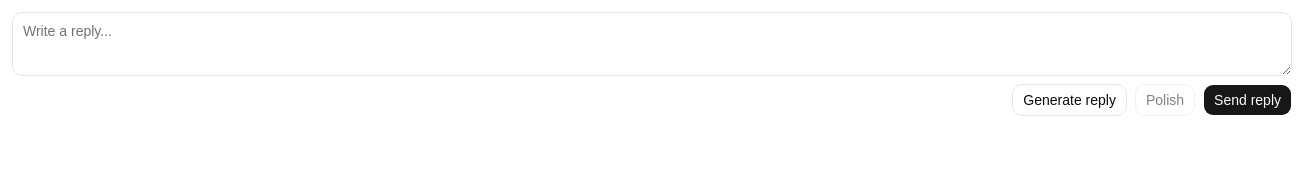
Test: ReplyForm › shows an error message when generating fails
Click the button "Generate reply": click(1070, 100) [1012,84,1127,116]
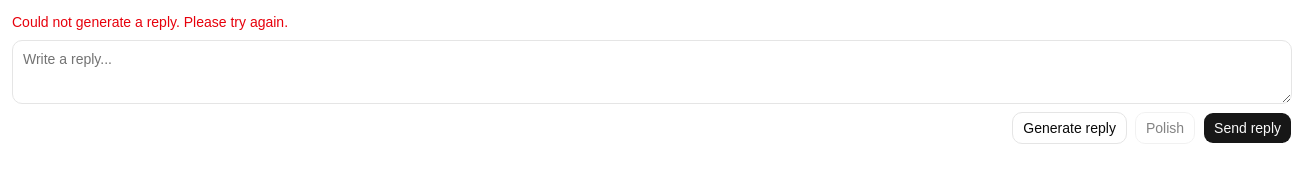
expect the text "Could not generate a reply. Please try again." is shown: met, box [12,14,288,30]
